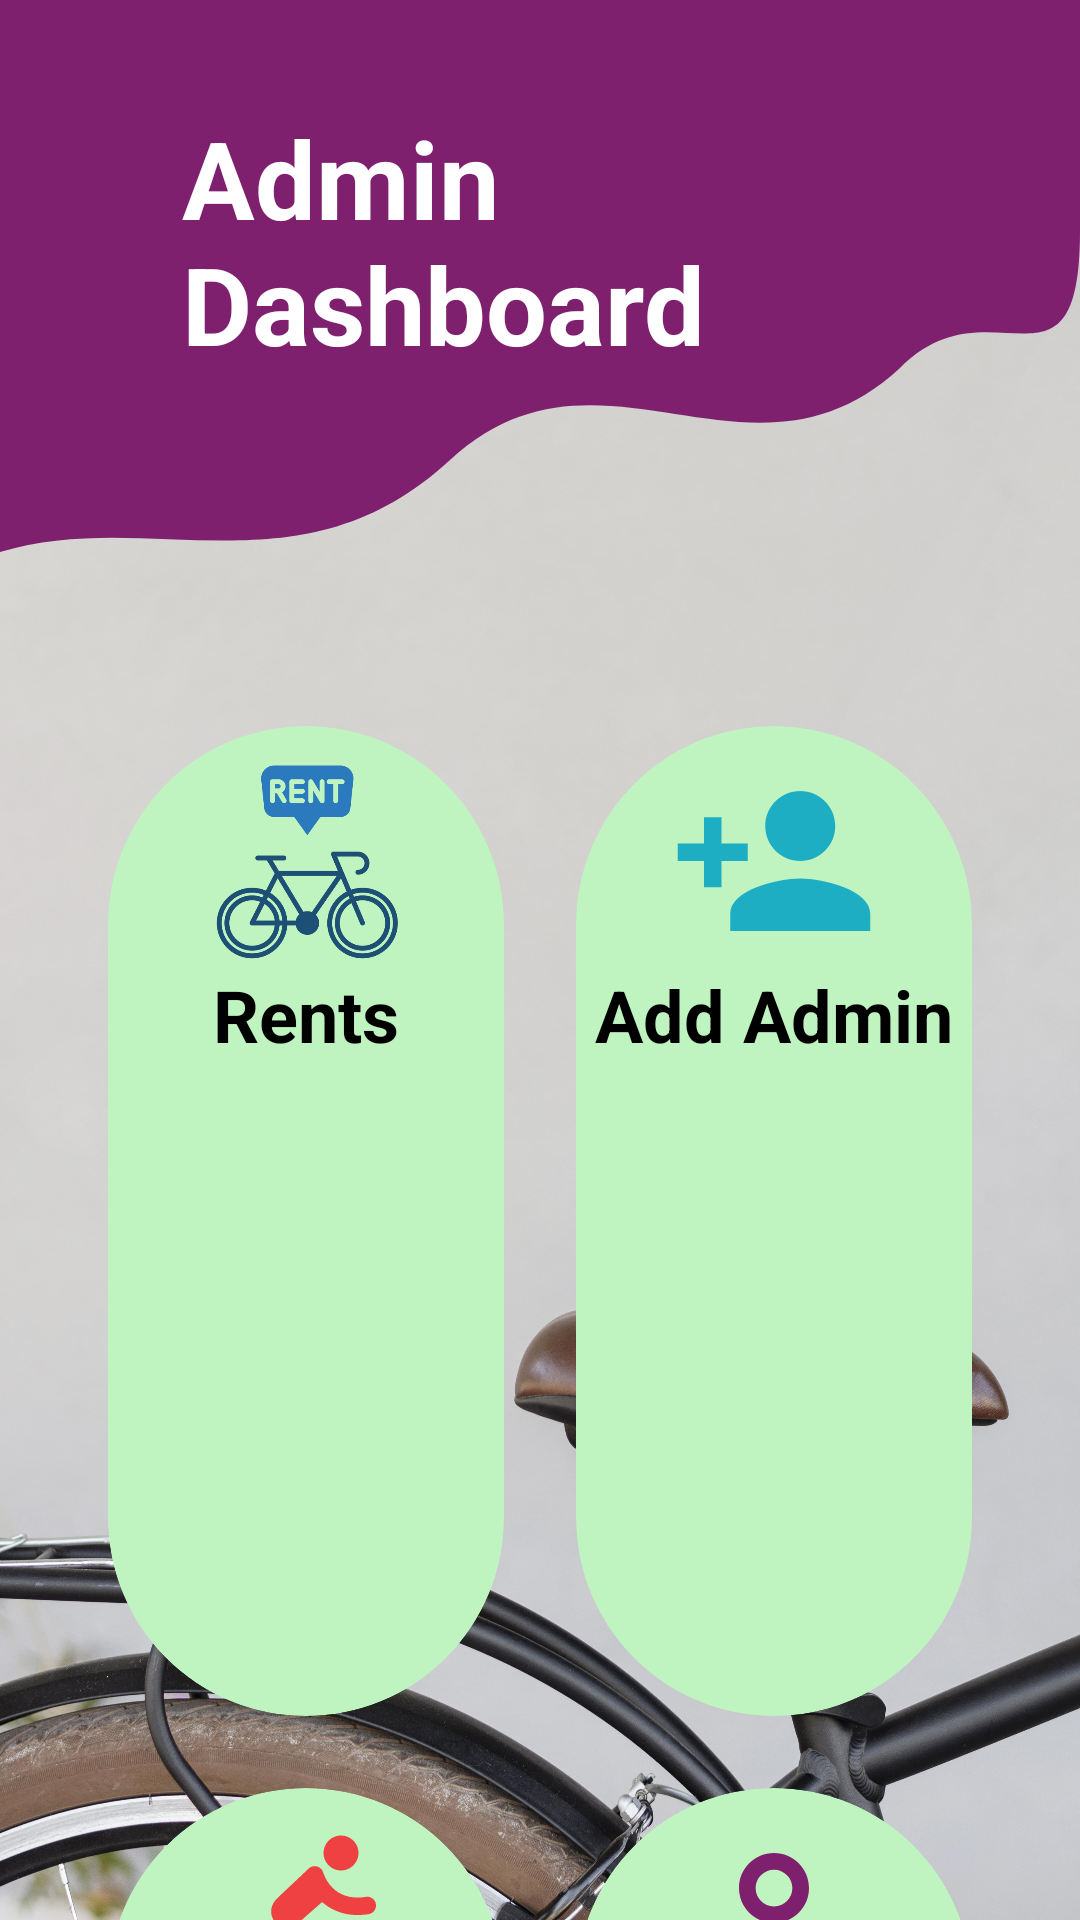

Screen size 1080*1920. Icon name, then its center in pixels as point (x, y):
add person: point (774, 861)
